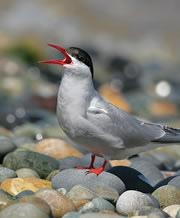bird: (38, 39, 180, 173)
